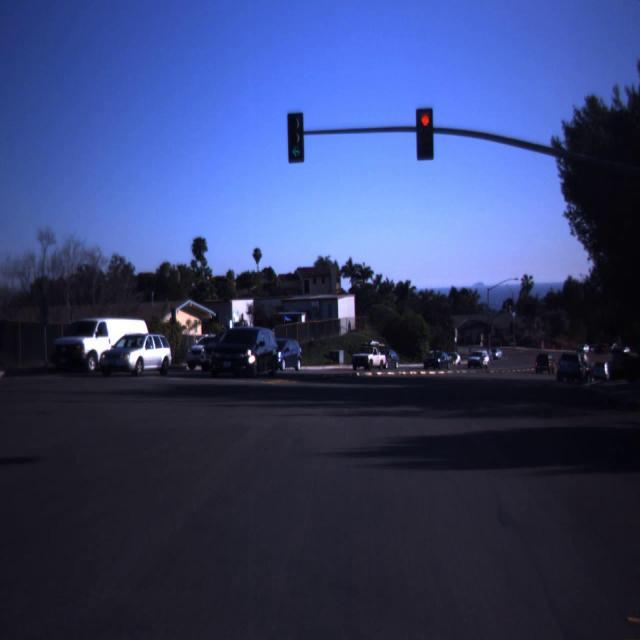go left: (293, 147, 299, 157)
go left traffic light: (286, 109, 306, 163)
stop: (422, 118, 428, 126)
stop traffic light: (415, 114, 435, 150)
